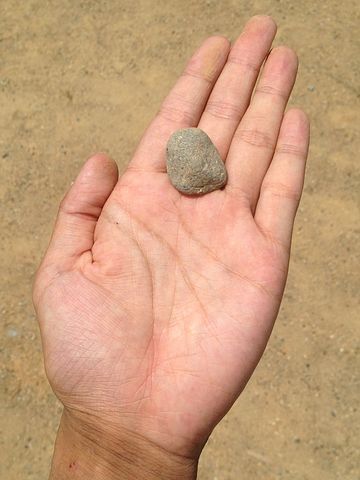palmhand: (34, 14, 308, 443)
